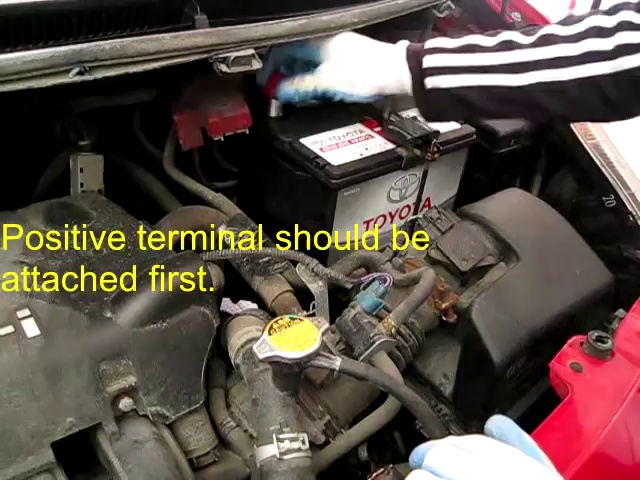battery: (256, 93, 485, 180)
pos_disconnected: (189, 72, 304, 145)
pos_touched: (186, 47, 396, 144)
